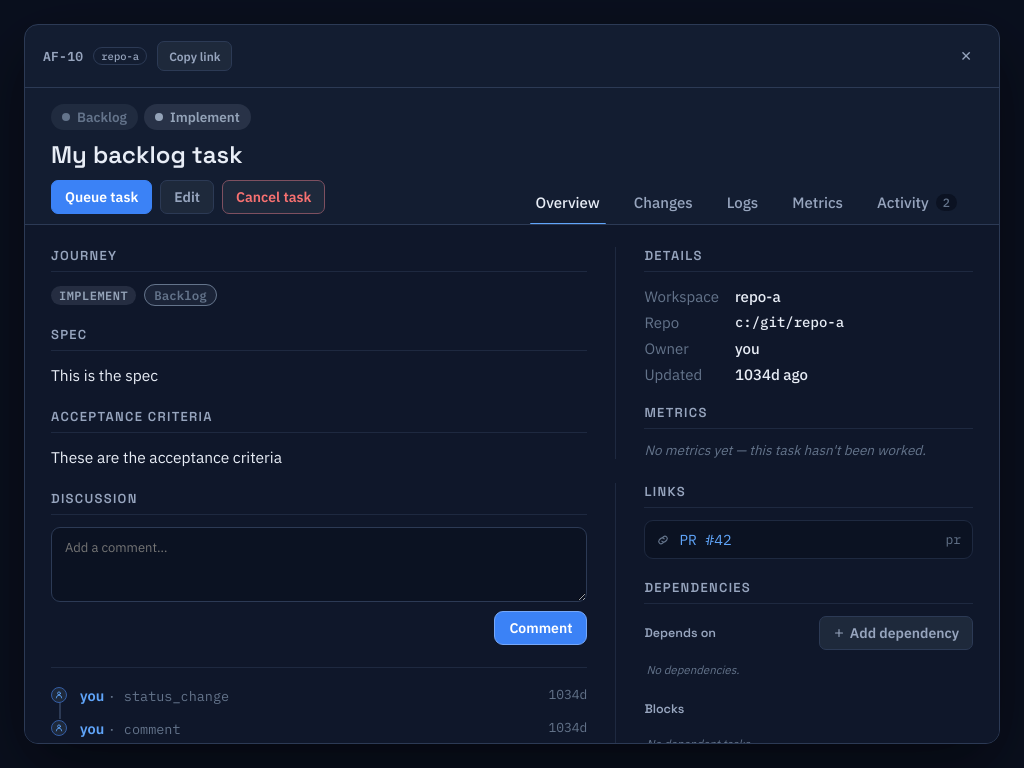
Test case: DetailPanel › shows why queueing failed instead of swallowing the error
This screenshot has width=1024, height=768.
Click the button "Queue task": x=102, y=197 [51,180,152,214]
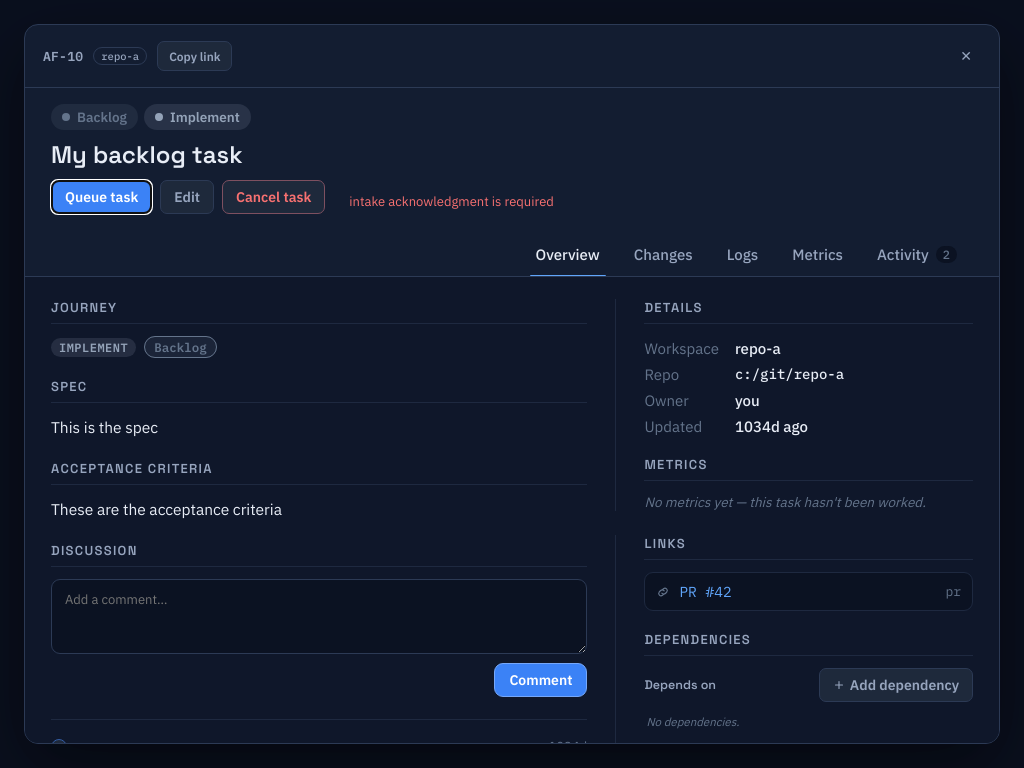
Result: the message reads "intake acknowledgment is required" at [349,193,554,210]
